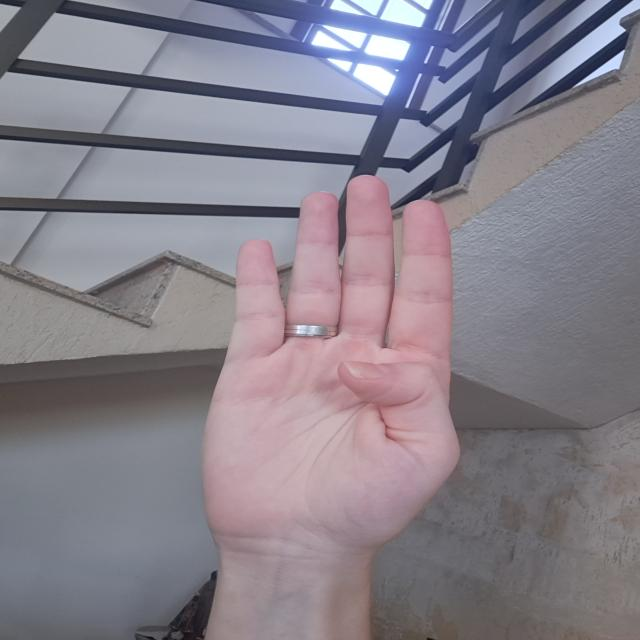B: (199, 171, 468, 545)
